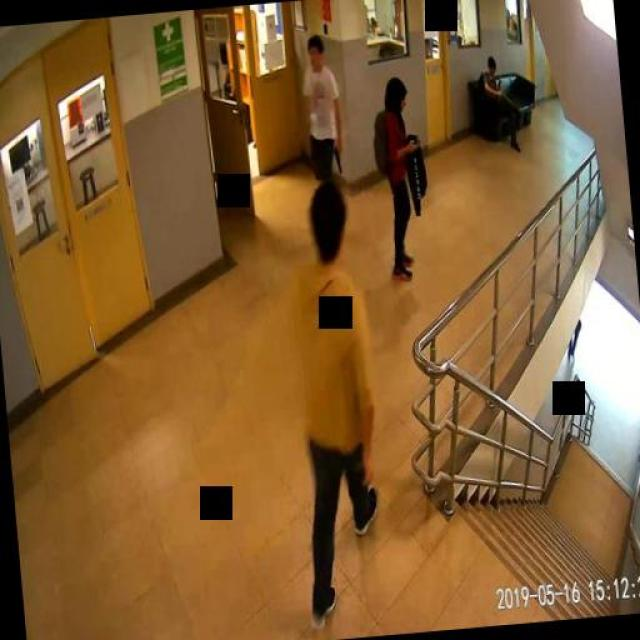gun: (331, 140, 344, 171)
